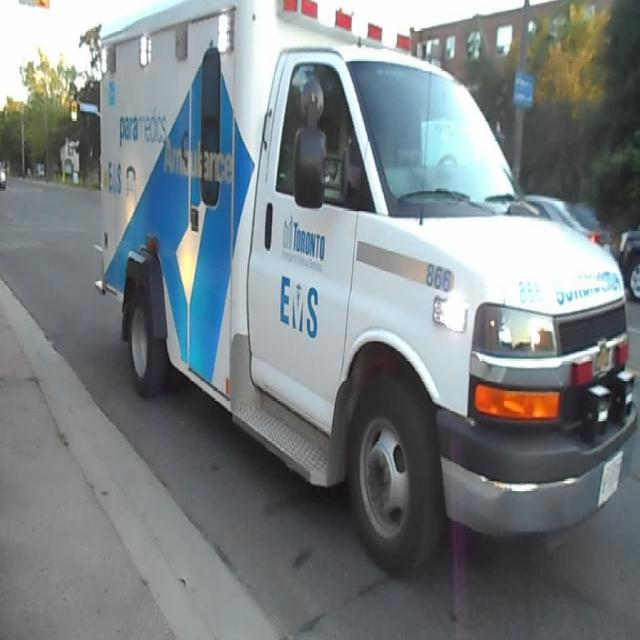Ambulance: (93, 0, 639, 580)
